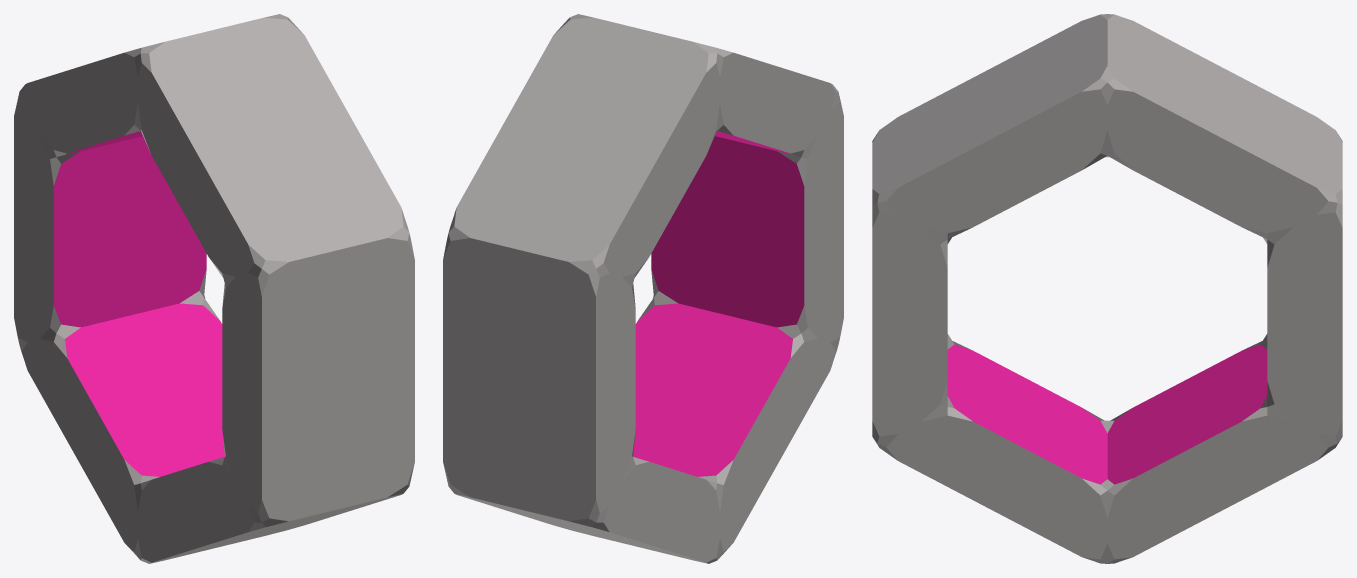
File: nut.glb
3 views of the same model, side by side, from view 1: azimuth 30°, elevation 25°; view 2: azimuth 150°, elevation 25°; view 3: azimuth 270°, elevation 25° (orthographic). The views are drawn at different scales.
Visible parts, largest first — view 1: NutBeveled; view 2: NutBeveled; view 3: NutBeveled.
Part boxes in pixels (box(x1,y1,x2,y2)): NutBeveled: box(14, 14, 414, 563); NutBeveled: box(443, 14, 843, 563); NutBeveled: box(872, 14, 1342, 563).
Size of the model in its own units: 0.9085 by 2.94 by 2.55.
